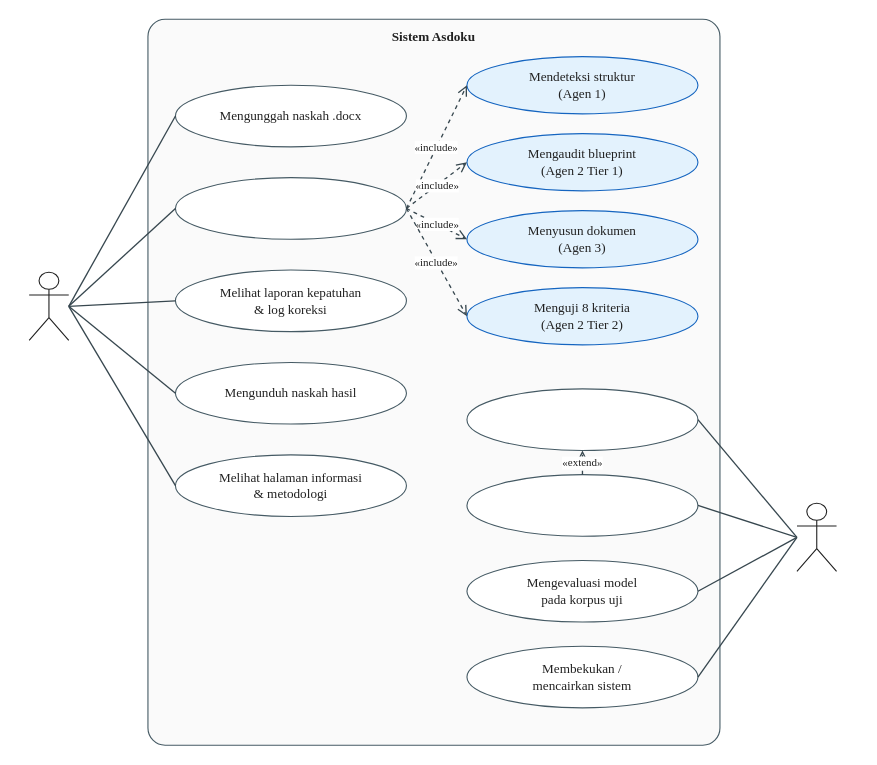
Image size: 877x765. Some labels were removed from this diagram. Each missing label, with the centre of its shape:
Mahasiswa (Pengguna): [48,305]
Melatih ulang & menguji non-regresi model: [582,505]
Memformat naskah otomatis: [290,208]
Meninjau pool koreksi: [582,419]
Peneliti (Administrator): [816,536]
